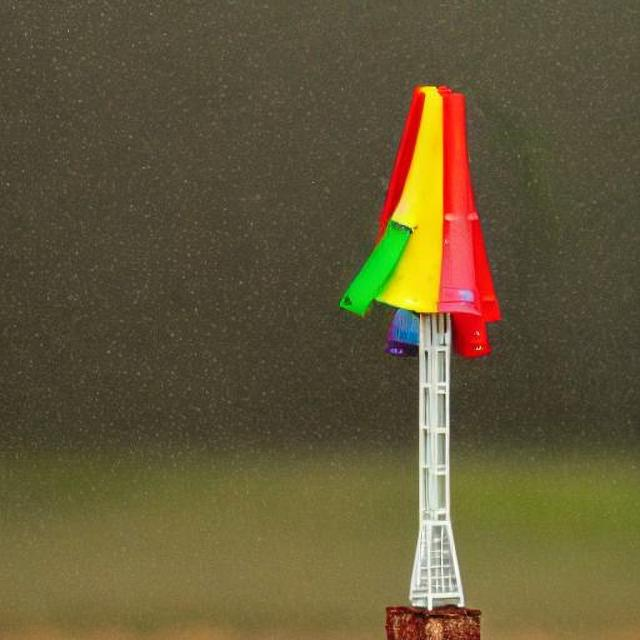plastic bag: (343, 83, 498, 344)
